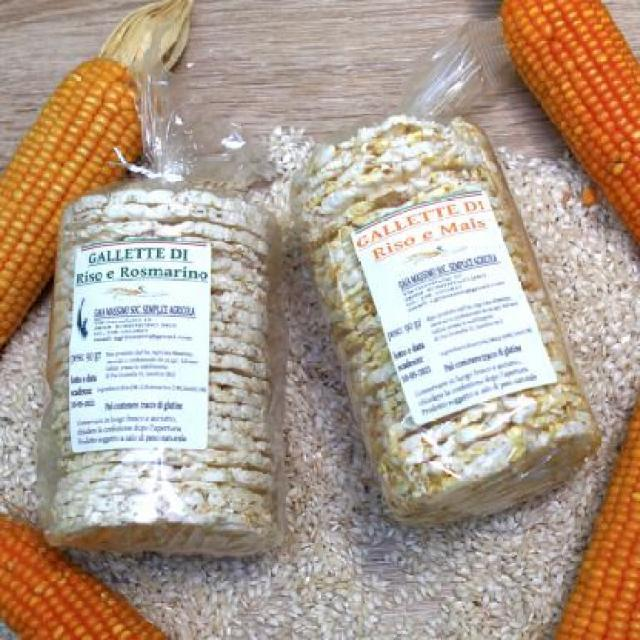Gallette di riso: (289, 28, 600, 534), (28, 68, 292, 558)
